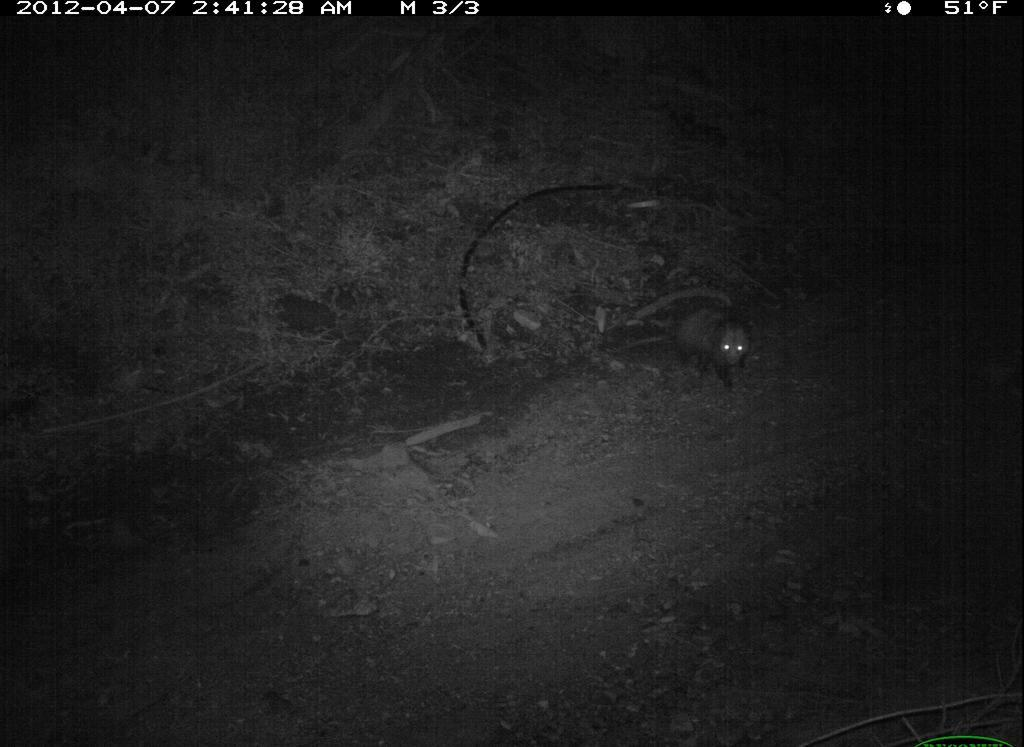opossum: (658, 289, 769, 404)
